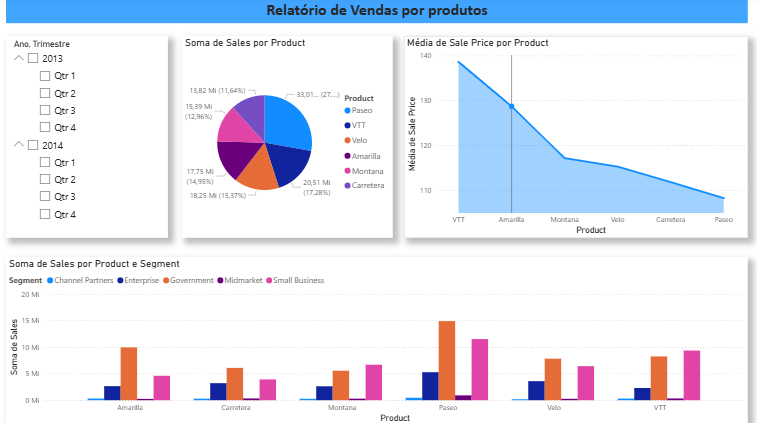

The page's visual inventory and layout, read from the dashboard file:
{"tool":"powerbi","page":{"name":"Página 1","canvas":[1280,720],"ordinal":0},"visuals":[{"type":"pieChart","fields":{"Category":["financials.Product"],"Y":["Sum(financials.Sales)"]},"box":[312.4,65.5,354.4,339.3],"z":0},{"type":"areaChart","fields":{"Category":["financials.Product"],"Y":["Avg(financials.Sale Price)"]},"box":[685.4,65.5,577.8,339.3],"z":1000},{"type":"clusteredColumnChart","fields":{"Category":["financials.Product","financials.Year"],"Series":["financials.Segment"],"Y":["Sum(financials.Sales)"]},"box":[16.8,436.7,1246.4,283.9],"z":2000},{"type":"slicer","fields":{"Values":["financials.Date.Variation.Hierarquia de datas.Ano","financials.Date.Variation.Hierarquia de datas.Trimestre"]},"box":[16.8,65.5,272.1,339.3],"z":2001},{"type":"textbox","box":[16.8,0,1246.4,43.7],"z":2002}]}

Visuals, with their boxes in screenshot pixels (x1, y1, x2, y2), scaled from the page's 1280x720 canvas onto the 757x423 screenshot:
pieChart - financials.Product x Sum(financials.Sales): BBox(185, 38, 394, 238)
areaChart - financials.Product x Avg(financials.Sale Price): BBox(405, 38, 747, 238)
clusteredColumnChart - financials.Product x financials.Year: BBox(10, 257, 747, 422)
slicer - financials.Date.Variation.Hierarquia de datas.Ano x financials.Date.Variation.Hierarquia de datas.Trimestre: BBox(10, 38, 171, 238)
textbox: BBox(10, 0, 747, 26)
